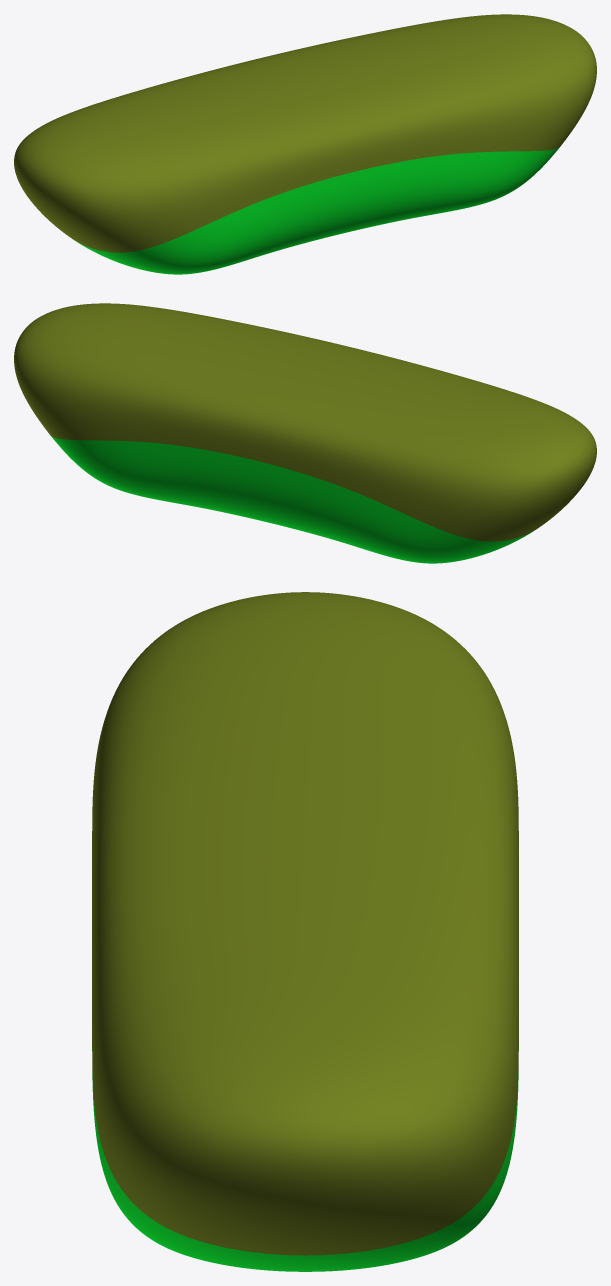
File: step00.fbx
The picture shows the model from 3 angles, top to bottom: view 1: azimuth 30°, elevation 25°; view 2: azimuth 150°, elevation 25°; view 3: azimuth 270°, elevation 25°; orthographic projection. The views are drawn at different scales.
Visible parts, largest first — view 1: Cube; view 2: Cube; view 3: Cube.
Part boxes in pixels (left/top/right/bottom): Cube: left=14, top=14, right=596, bottom=274; Cube: left=14, top=303, right=596, bottom=563; Cube: left=92, top=592, right=518, bottom=1271.
Size of the model in its own units: 214 by 52.44 by 71.24.
